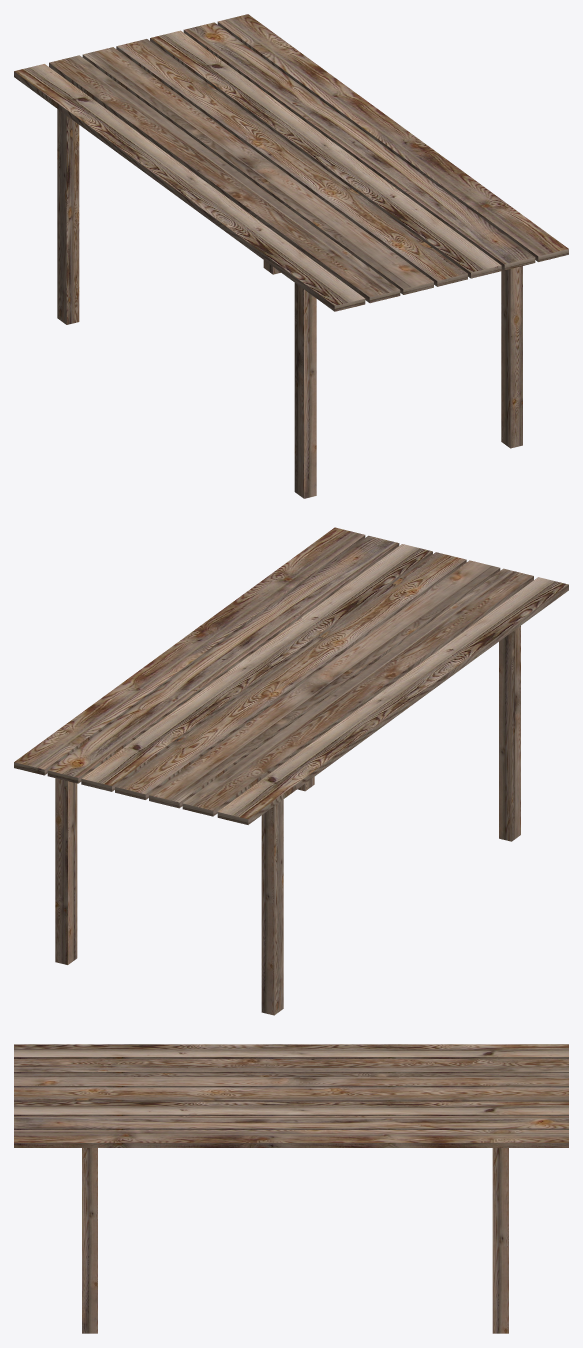
The model's file is table.fbx.
The picture shows the model from 3 angles, top to bottom: view 1: azimuth 30°, elevation 25°; view 2: azimuth 150°, elevation 25°; view 3: azimuth 270°, elevation 25°; orthographic projection. The views are drawn at different scales.
Parts seen in each view (by area): view 1: Table; view 2: Table; view 3: Table.
Boxes of the visible parts, bbox=[...] form: Table: bbox=[14, 14, 568, 498]; Table: bbox=[14, 527, 568, 1015]; Table: bbox=[14, 1044, 568, 1333].
Bounding box in the file's own units: 0.5661 × 0.5168 × 1.34.
